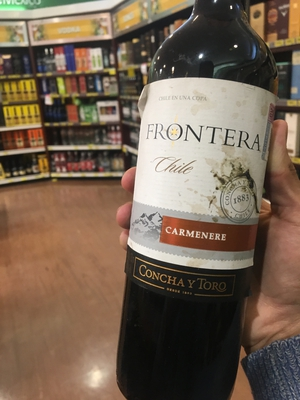frontera carmenere: (120, 6, 282, 400)
